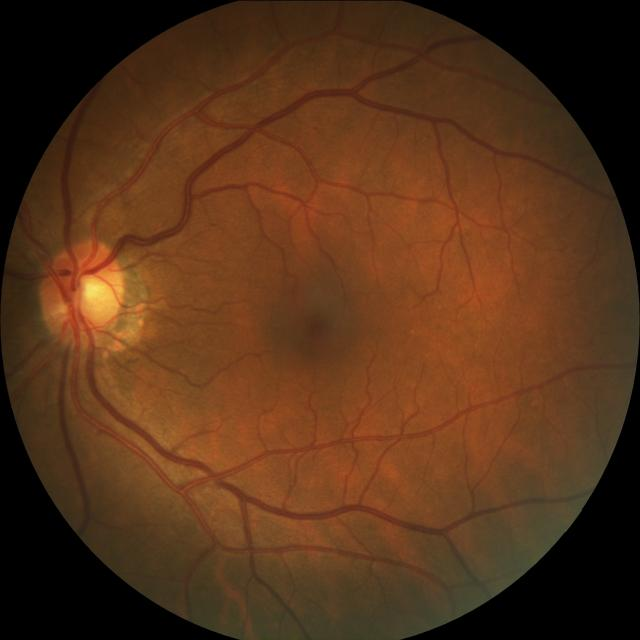OC: (60, 269, 106, 312)
OD: (39, 242, 125, 339)
